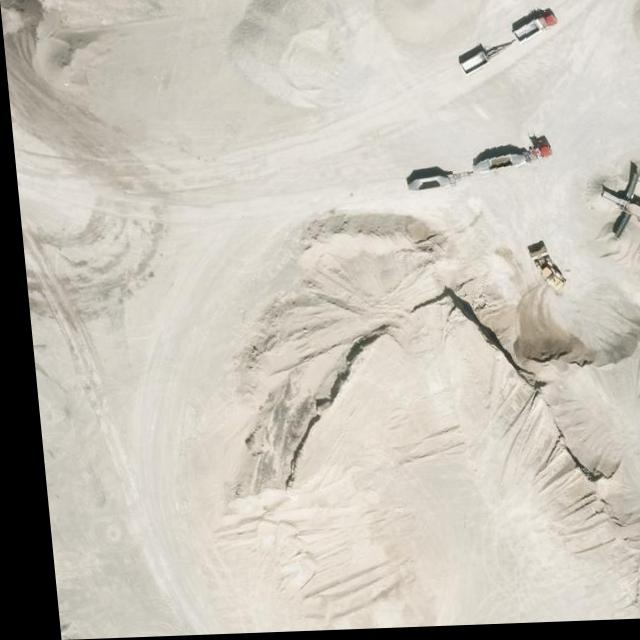vehicle: (467, 138, 554, 189), (509, 14, 560, 54)
